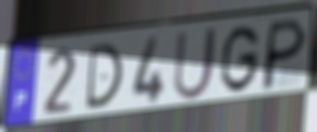2: (41, 46, 78, 117)
4: (131, 32, 167, 106)
D: (83, 41, 125, 113)
G: (218, 23, 261, 96)
P: (258, 15, 309, 93)
U: (171, 24, 220, 104)
